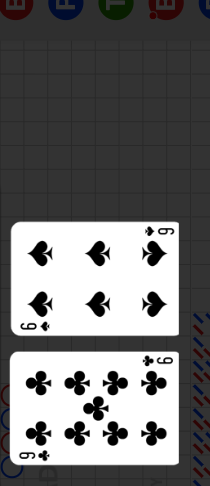6S: (143, 226, 176, 238)
9C: (18, 448, 53, 462)
